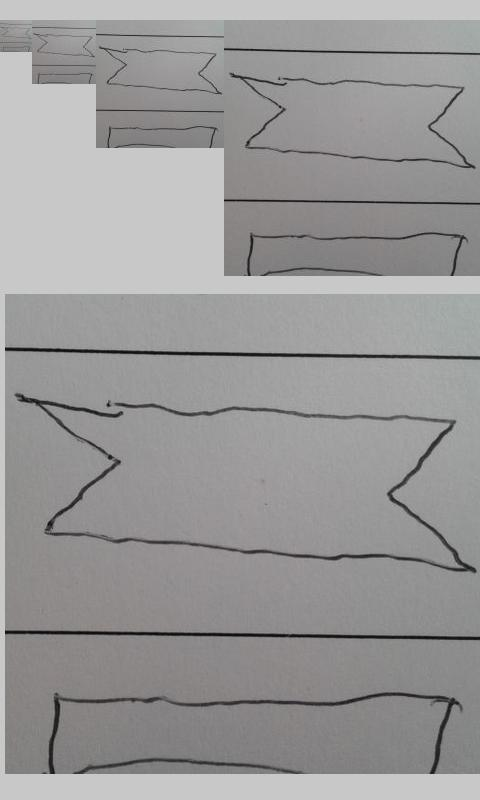edit_text: (20, 394, 473, 575), (233, 73, 474, 169), (100, 46, 221, 95), (35, 33, 94, 58), (1, 26, 31, 39)
